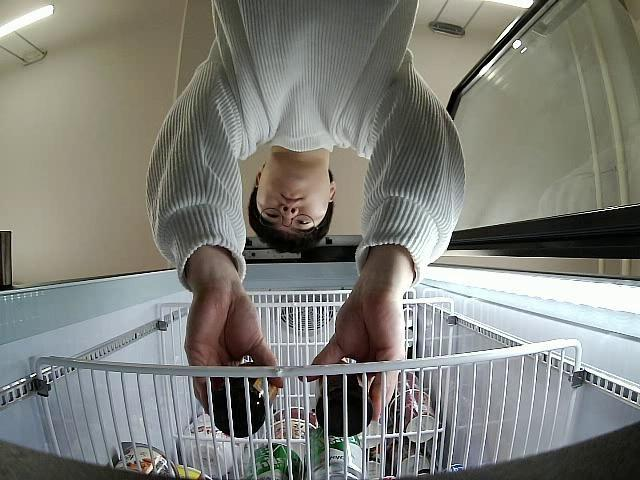17_vita500: (212, 362, 278, 436), (316, 360, 374, 439)
